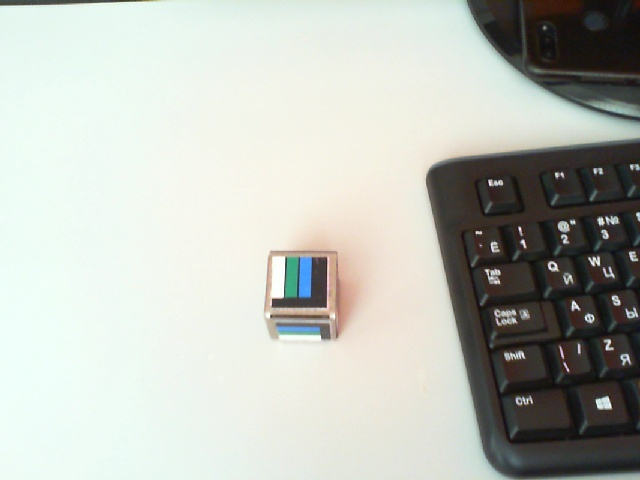square: (272, 256, 327, 308)
